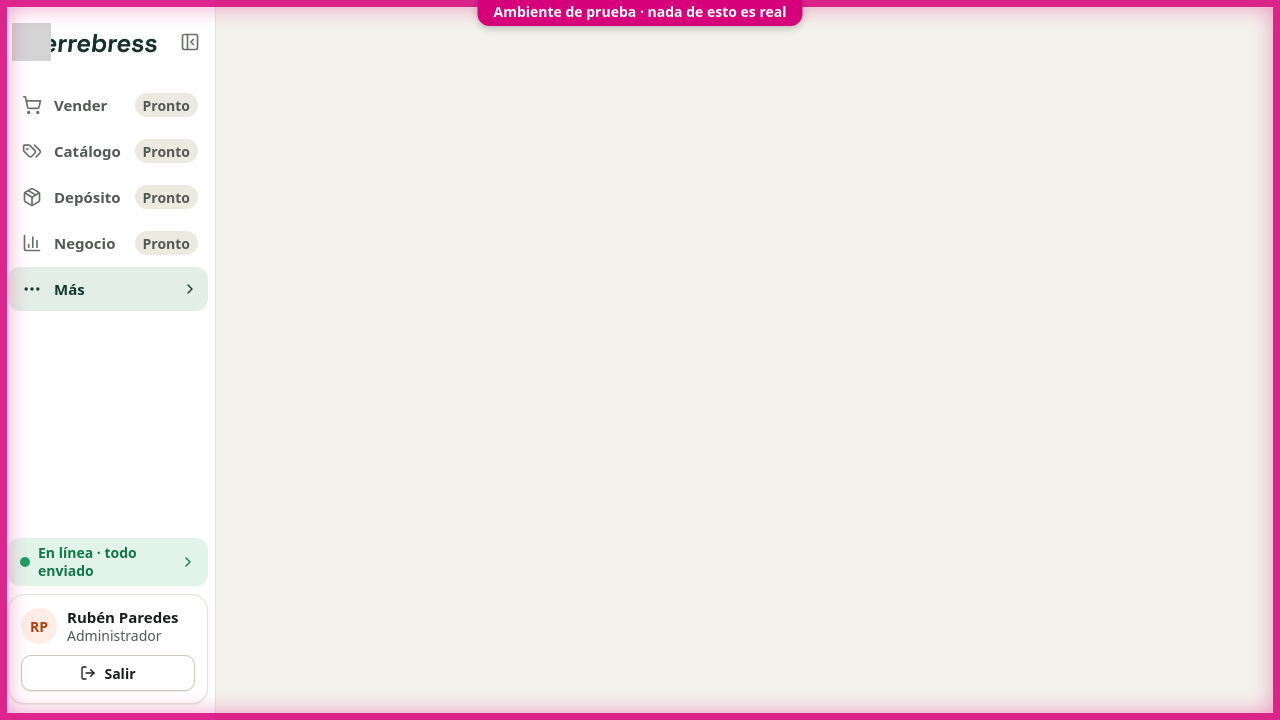
Scenario: el marco › Más se cierra tocándolo otra vez; el globo de «todavía no está» no se va con la marca
Click the button "Más".
click(108, 289)  # box top-left (8, 267), bottom-right (208, 311)
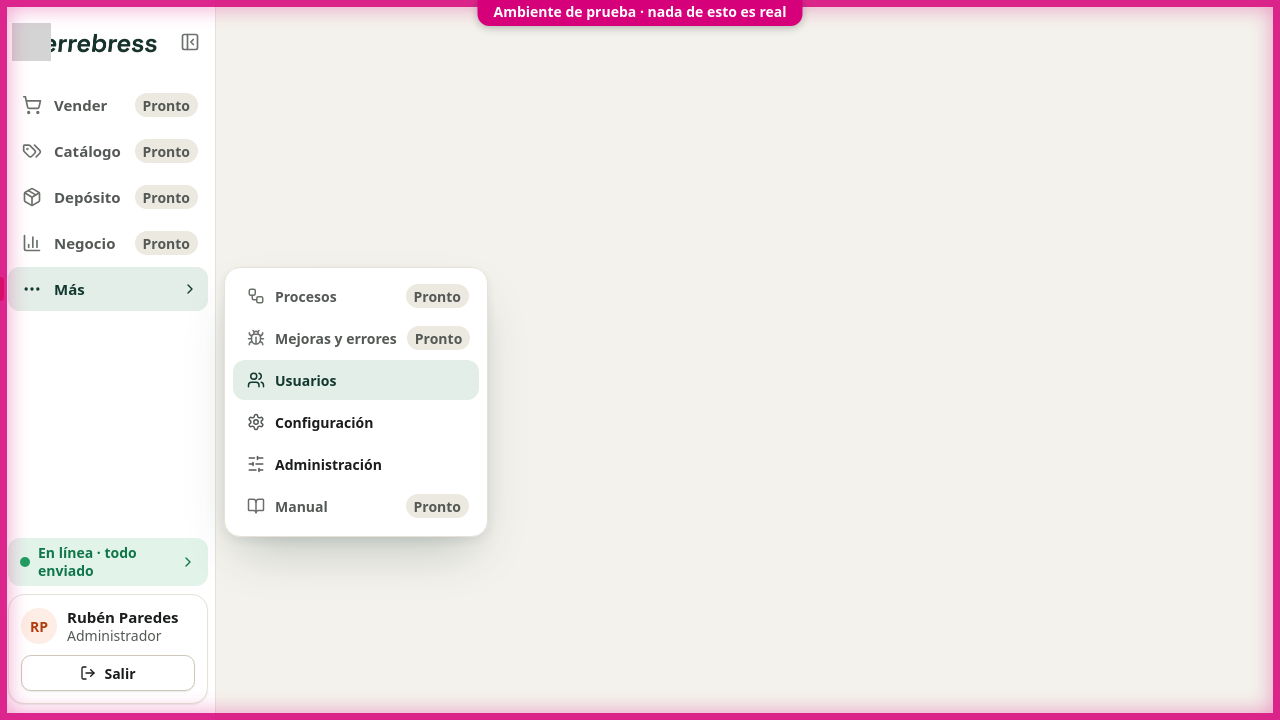
Click the button "Más".
click(108, 289)  # box top-left (8, 267), bottom-right (208, 311)
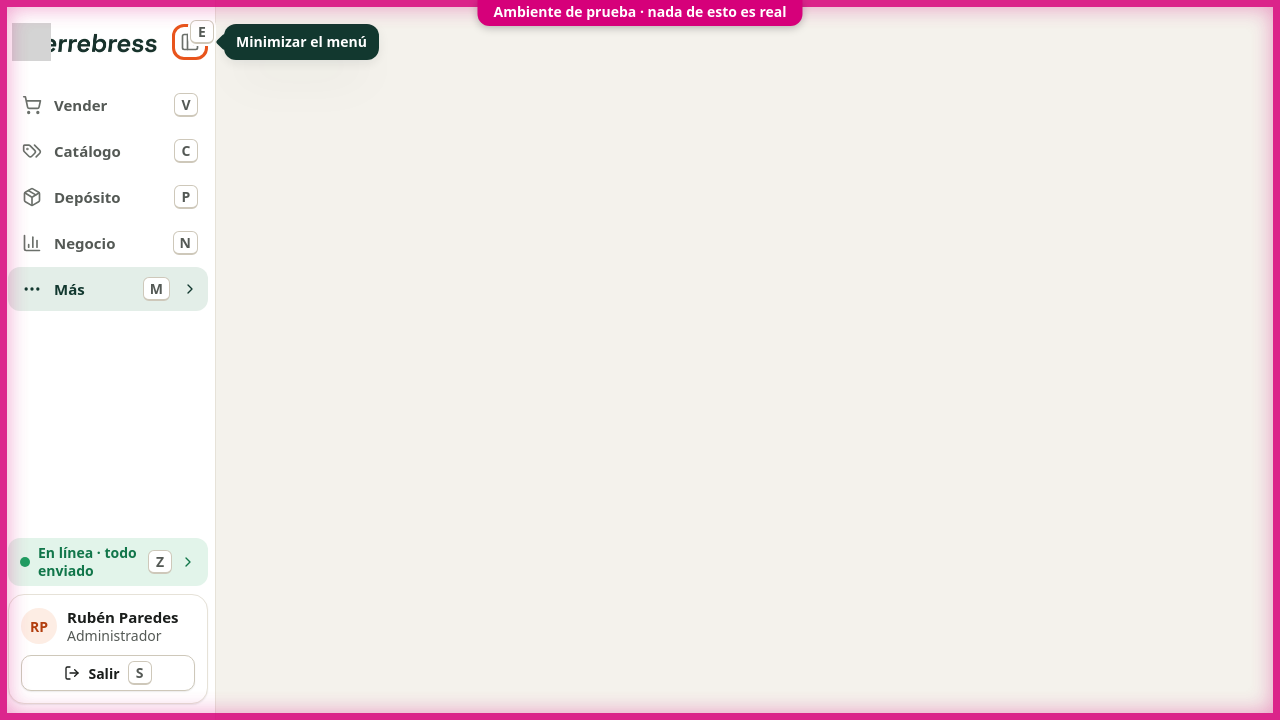
Click the button "Vender V".
click(108, 105)  # box top-left (8, 83), bottom-right (208, 127)
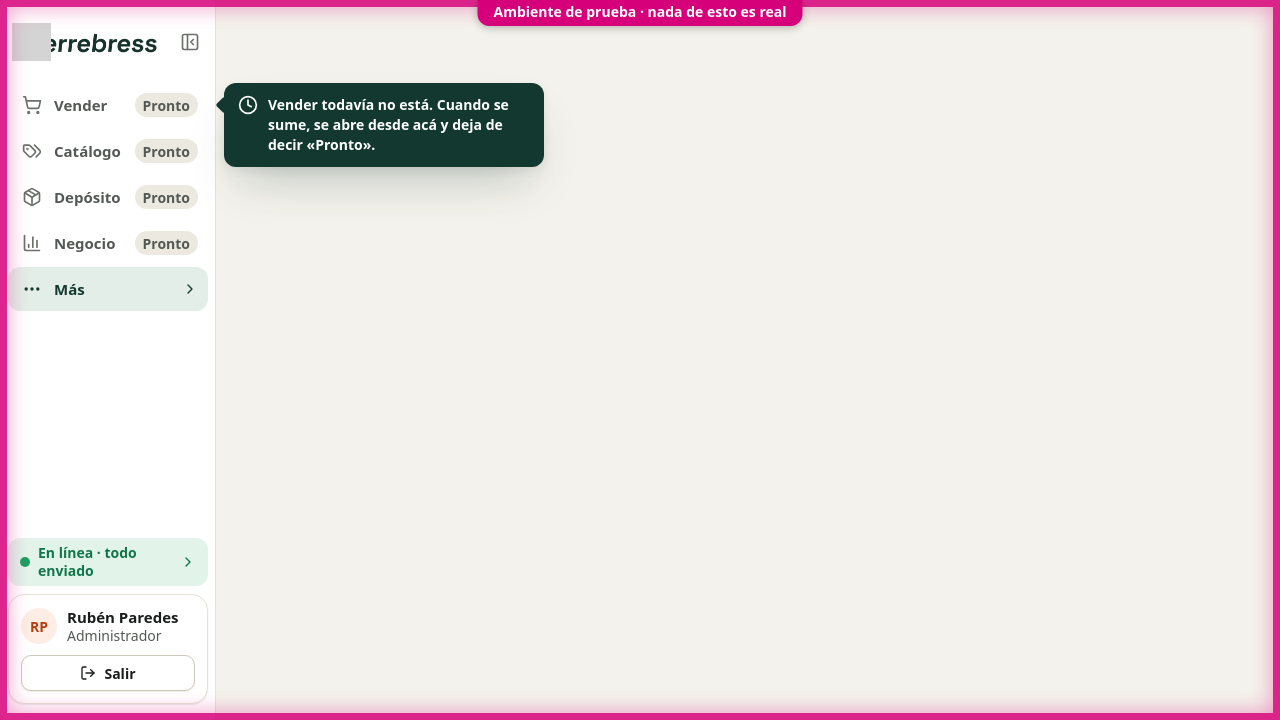
Now the message shows "Vender todavía no está", box top-left (268, 95), bottom-right (509, 154)
